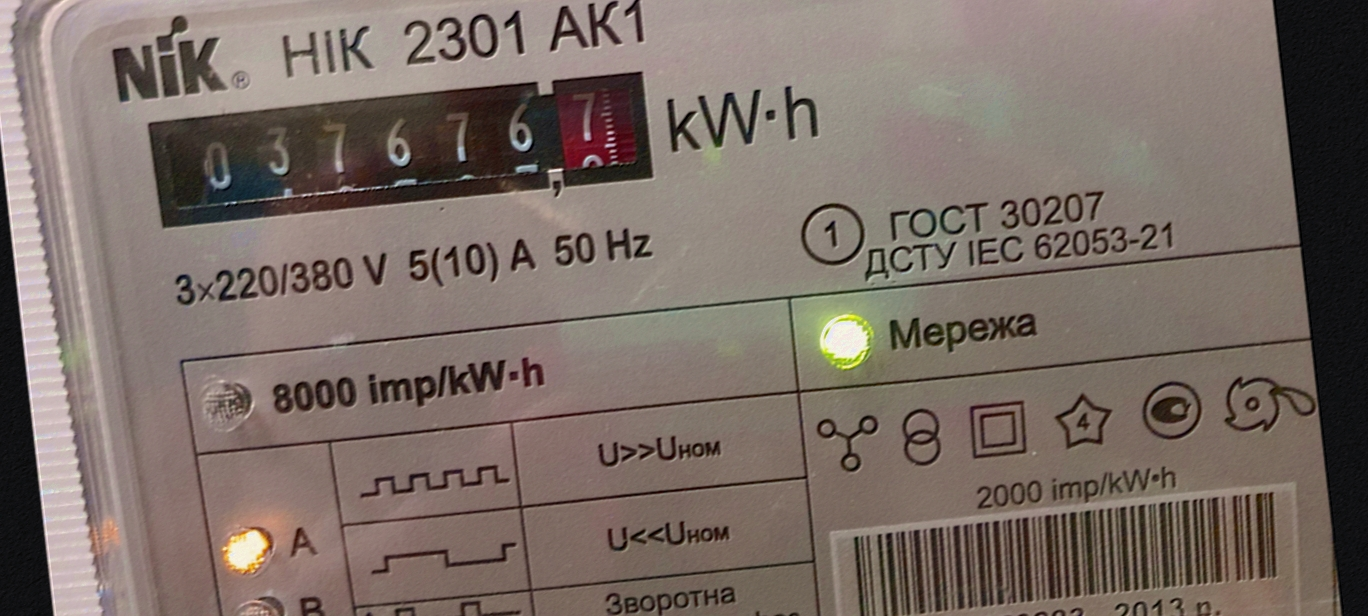0: (198, 135, 238, 194)
3: (260, 121, 294, 180)
6: (379, 113, 417, 170), (502, 98, 538, 156)
7: (441, 107, 478, 169), (318, 118, 355, 177), (569, 87, 603, 146)
screen: (131, 49, 672, 253)
